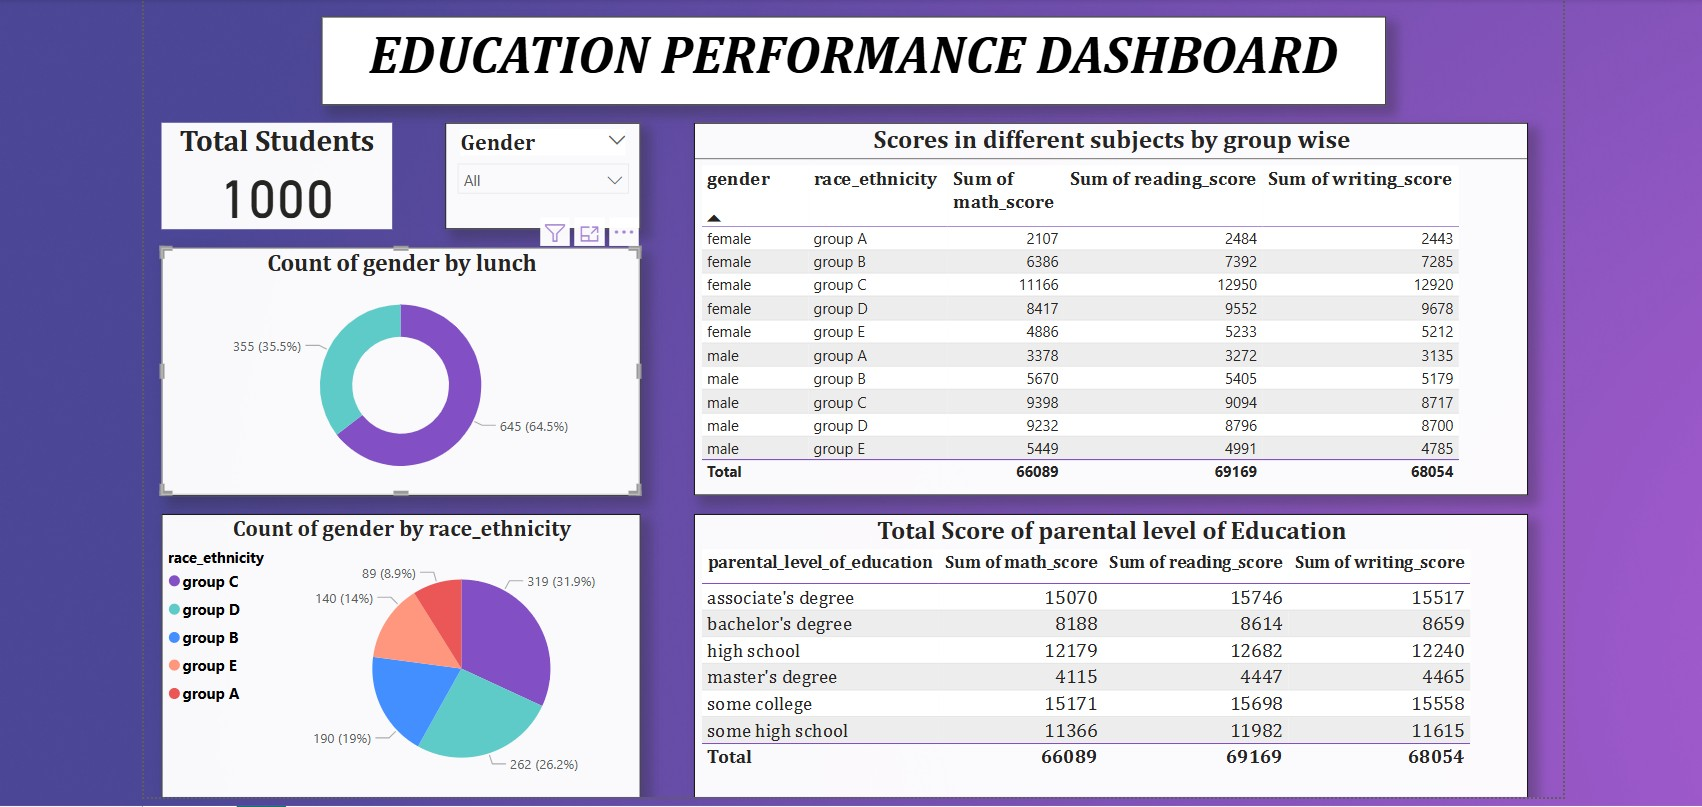

Layout of this report page (visuals, bound fields, positions):
{"tool":"powerbi","page":{"name":"DASHBOARD","canvas":[1280,720],"ordinal":0},"visuals":[{"type":"textbox","box":[160,16,960,80],"z":0},{"type":"card","title":"Total Students","fields":{"Values":["CountNonNull(study_performance.gender)"]},"box":[16,112,208,96],"z":1000},{"type":"slicer","fields":{"Values":["study_performance.gender"]},"box":[272,112,176,96],"z":2000},{"type":"donutChart","fields":{"Category":["study_performance.lunch"],"Y":["CountNonNull(study_performance.gender)"]},"box":[16,224,432,224],"z":3000},{"type":"tableEx","title":"Scores in different subjects by group wise","fields":{"Values":["study_performance.gender","study_performance.race_ethnicity","Sum(study_performance.math_score)","Sum(study_performance.reading_score)","Sum(study_performance.writing_score)"]},"box":[496,112,752,336],"z":4000},{"type":"pieChart","fields":{"Y":["CountNonNull(study_performance.gender)"],"Category":["study_performance.race_ethnicity"]},"box":[16,464,432,256],"z":5000},{"type":"tableEx","title":"Total Score of parental level of Education","fields":{"Values":["study_performance.parental_level_of_education","Sum(study_performance.Average Reading Score)","Sum(study_performance.Average Math Score)","Sum(study_performance.Average Writing Score)"]},"box":[496,464,752,256],"z":6000}]}

Visuals, with their boxes in screenshot pixels (x1, y1, x2, y2):
textbox: left=319, top=13, right=1379, bottom=102
"Total Students" card: left=160, top=119, right=389, bottom=225
slicer - study_performance.gender: left=442, top=119, right=637, bottom=225
donutChart - study_performance.lunch x CountNonNull(study_performance.gender): left=160, top=243, right=637, bottom=491
"Scores in different subjects by group wise" tableEx: left=690, top=119, right=1521, bottom=491
pieChart - CountNonNull(study_performance.gender) x study_performance.race_ethnicity: left=160, top=508, right=637, bottom=791
"Total Score of parental level of Education" tableEx: left=690, top=508, right=1521, bottom=791
